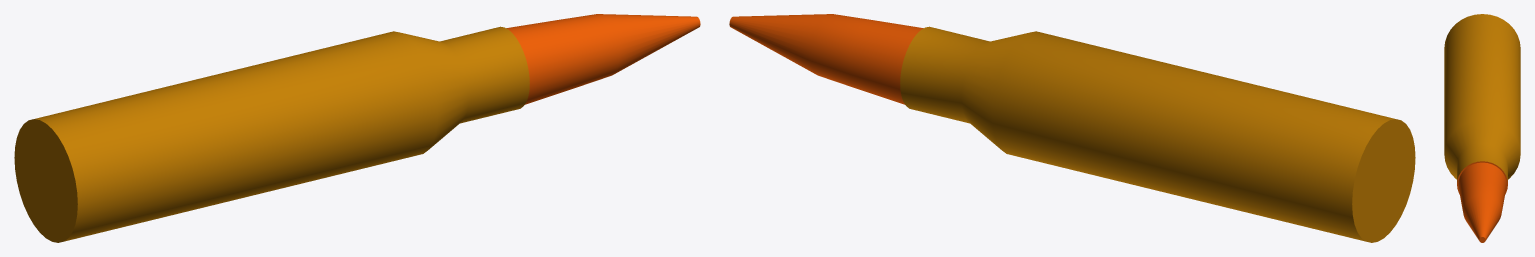
Rendered from Ak47_bullet.fbx.
3 views of the same model, side by side, from view 1: azimuth 30°, elevation 25°; view 2: azimuth 150°, elevation 25°; view 3: azimuth 270°, elevation 25° (orthographic). The views are drawn at different scales.
Parts seen in each view (by area): view 1: Ak47_Bullet; view 2: Ak47_Bullet; view 3: Ak47_Bullet.
Part boxes in pixels (box(x1,y1,x2,y2)): Ak47_Bullet: box(14, 14, 700, 242); Ak47_Bullet: box(729, 14, 1415, 242); Ak47_Bullet: box(1444, 14, 1520, 242).
Bounding box in the file's own units: 363 × 61.19 × 61.19.
